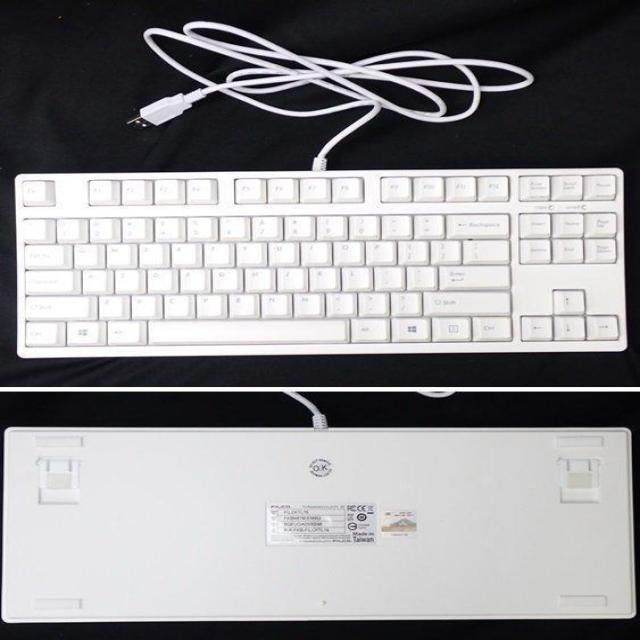keyboard: (18, 168, 624, 353)
